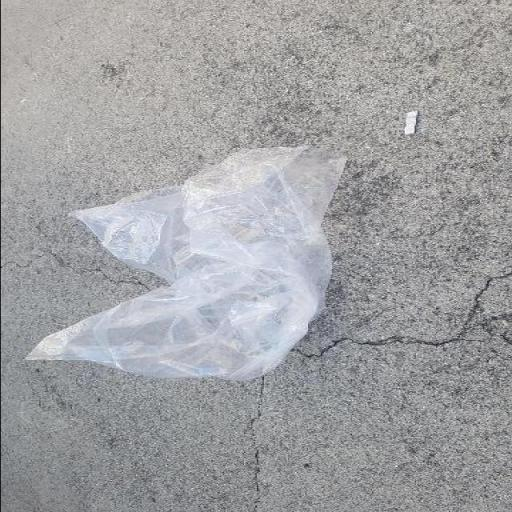plastic-bag: (20, 144, 350, 384)
